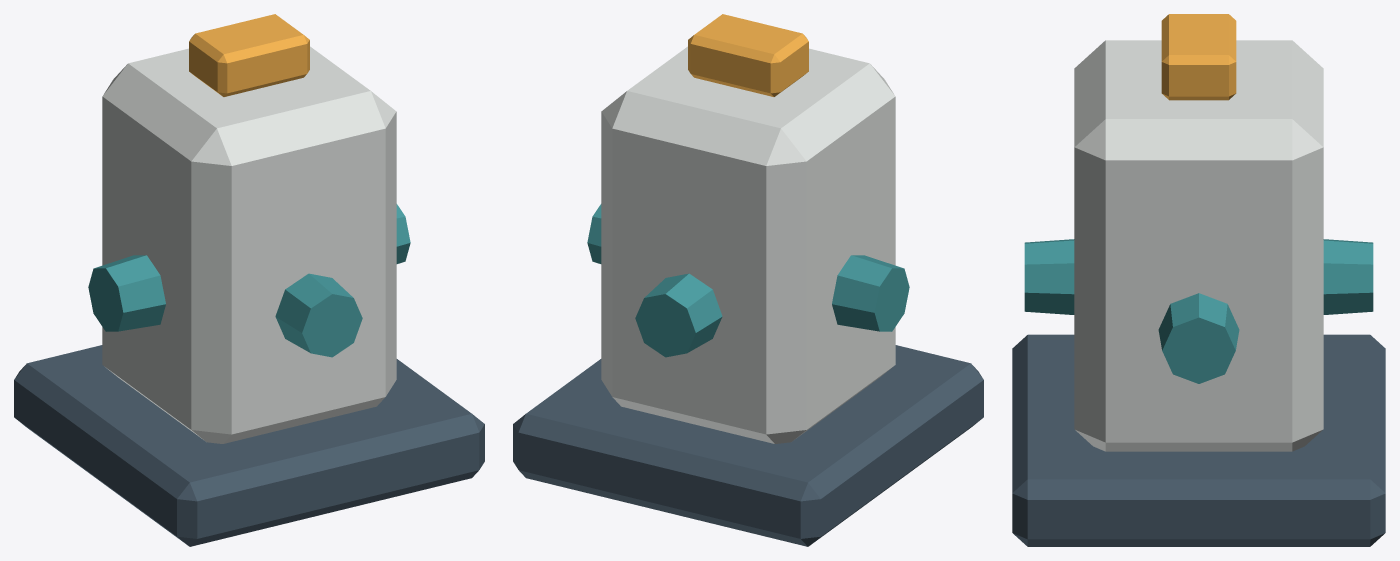
3 renders of one model, left to right at view 1: azimuth 30°, elevation 25°; view 2: azimuth 150°, elevation 25°; view 3: azimuth 270°, elevation 25°, orthographic. The views are drawn at different scales.
Visible parts, largest first — view 1: ME-022 Four-port surface power junction batched; view 2: ME-022 Four-port surface power junction batched; view 3: ME-022 Four-port surface power junction batched.
Part boxes in pixels (bbox=[...]): ME-022 Four-port surface power junction batched: bbox=[14, 14, 484, 546]; ME-022 Four-port surface power junction batched: bbox=[513, 14, 983, 546]; ME-022 Four-port surface power junction batched: bbox=[1012, 14, 1385, 546].
Bounding box in the file's own units: 0.6 × 0.78 × 0.6.
